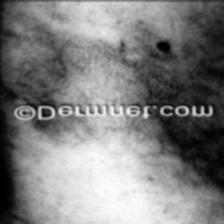Unclassified: (72, 57, 114, 99), (146, 40, 175, 58)
